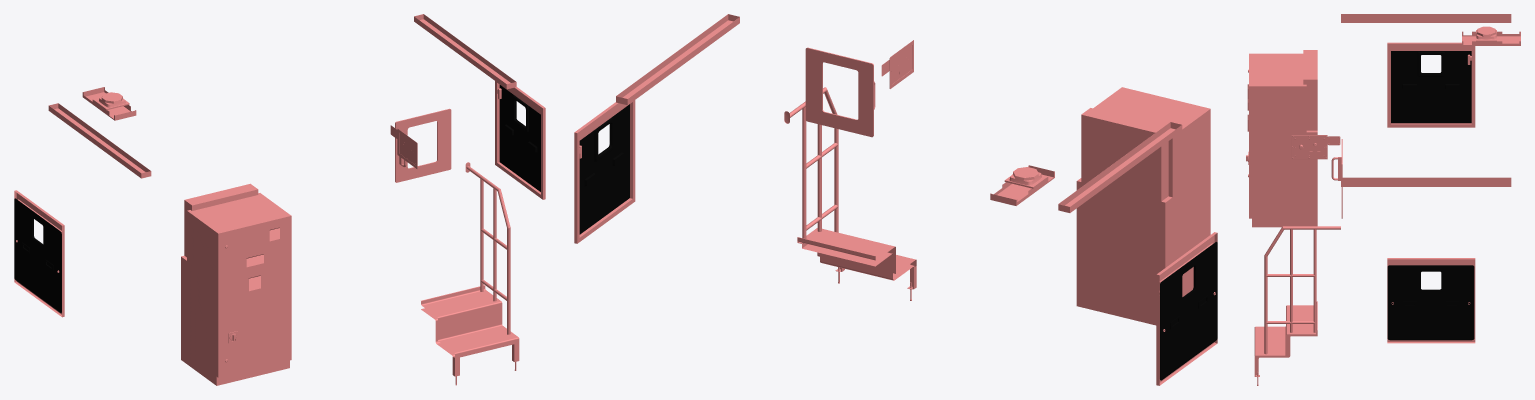
The model's file is ACC.fbx.
3 views of the same model, side by side, from view 1: azimuth 30°, elevation 25°; view 2: azimuth 150°, elevation 25°; view 3: azimuth 270°, elevation 25° (orthographic). The views are drawn at different scales.
Parts seen in each view (by area): view 1: BODY_PARTS_2; view 2: BODY_PARTS_2; view 3: BODY_PARTS_2.
Part boxes in pixels (left/top/right/bottom): BODY_PARTS_2: left=14, top=14, right=545, bottom=385; BODY_PARTS_2: left=574, top=14, right=1217, bottom=385; BODY_PARTS_2: left=1246, top=14, right=1520, bottom=385.
Bounding box in the file's own units: 4907 × 2619 × 2421.
